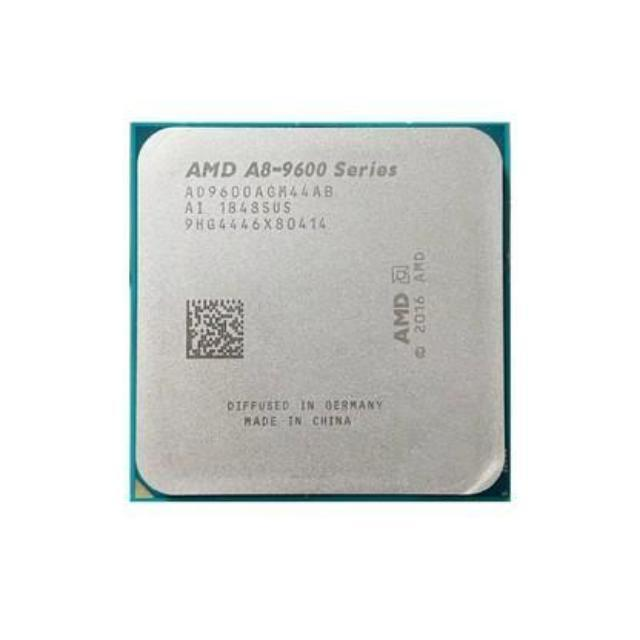CPU: (132, 124, 512, 502)
